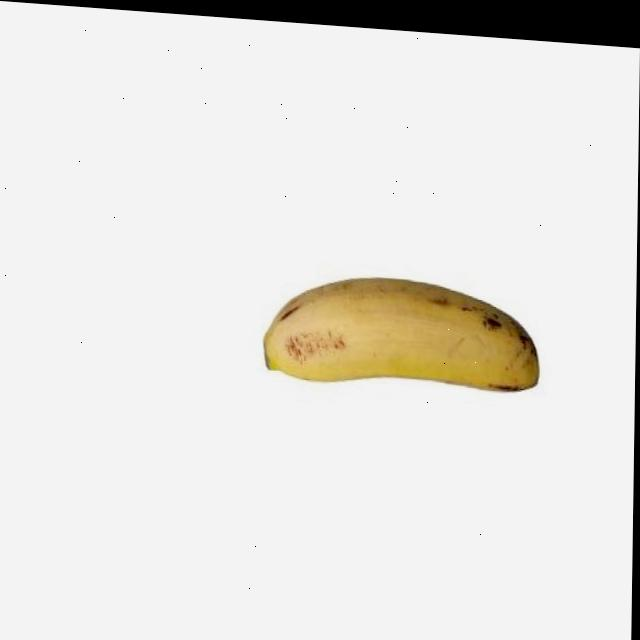banana: (261, 262, 544, 401)
